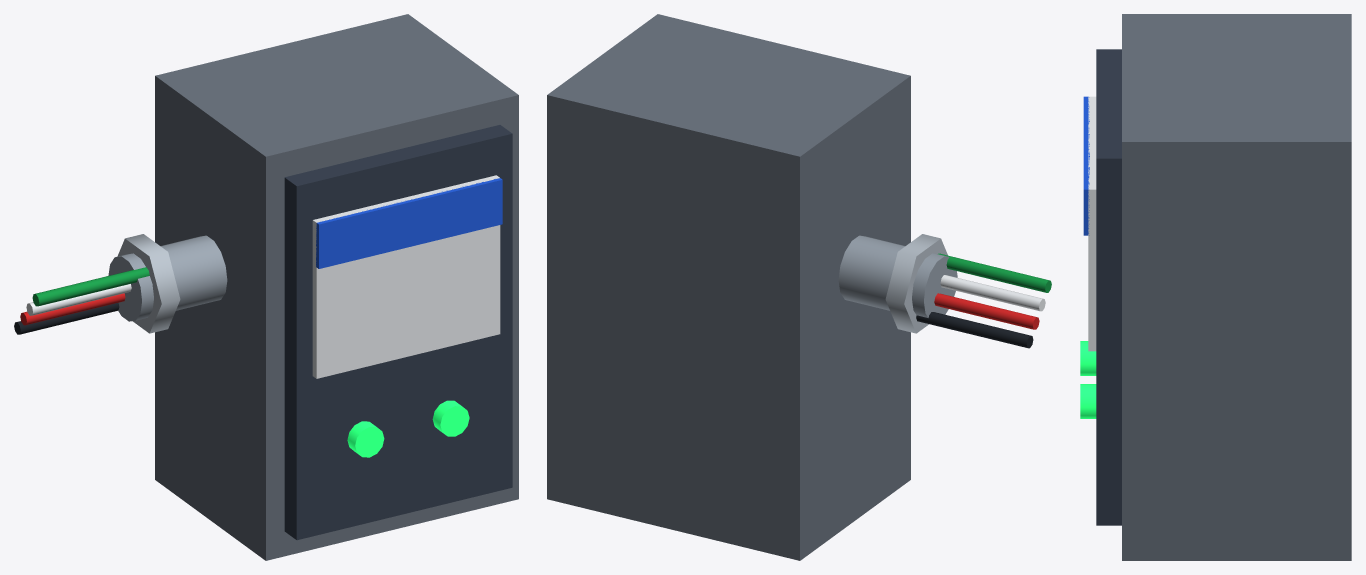
3 views of the same model, side by side, from view 1: azimuth 30°, elevation 25°; view 2: azimuth 150°, elevation 25°; view 3: azimuth 270°, elevation 25° (orthographic). The views are drawn at different scales.
Parts seen in each view (by area): view 1: cad-spd-type2-panel; view 2: cad-spd-type2-panel; view 3: cad-spd-type2-panel.
Part boxes in pixels (box(x1,y1,x2,y2)): cad-spd-type2-panel: box(14, 14, 518, 560); cad-spd-type2-panel: box(547, 14, 1051, 560); cad-spd-type2-panel: box(1080, 14, 1351, 560).
Size of the model in its own units: 0.164 by 0.145 by 0.085.
